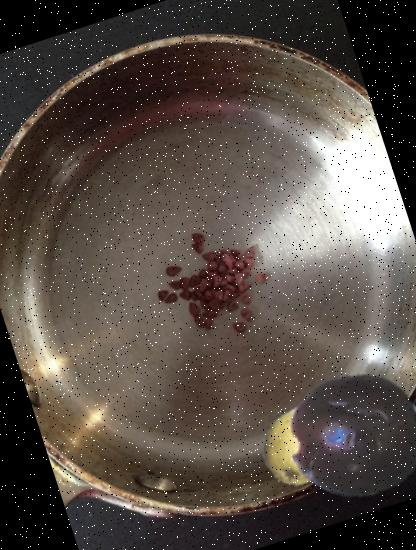Passion: (271, 351, 416, 519)
Pear: (244, 392, 350, 496)
